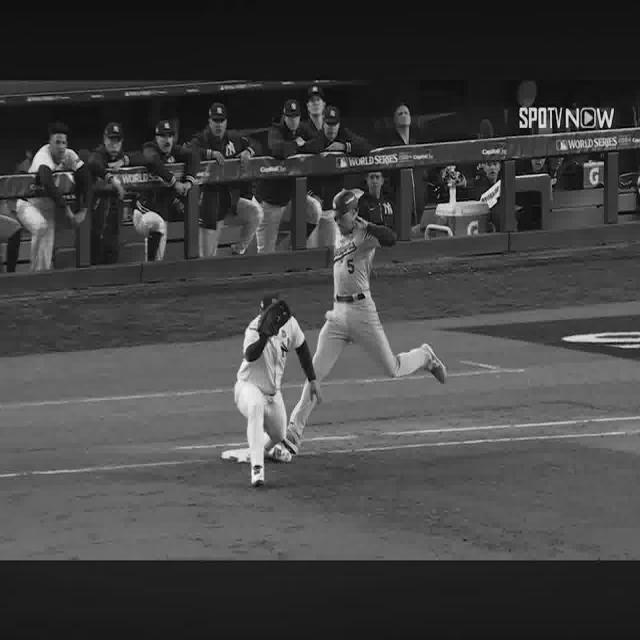base: (221, 448, 250, 463)
baseball: (326, 310, 334, 321)
baseball_glove: (259, 298, 291, 337)
shoe: (419, 343, 448, 383), (284, 423, 302, 455), (265, 443, 292, 463), (251, 465, 265, 487)
